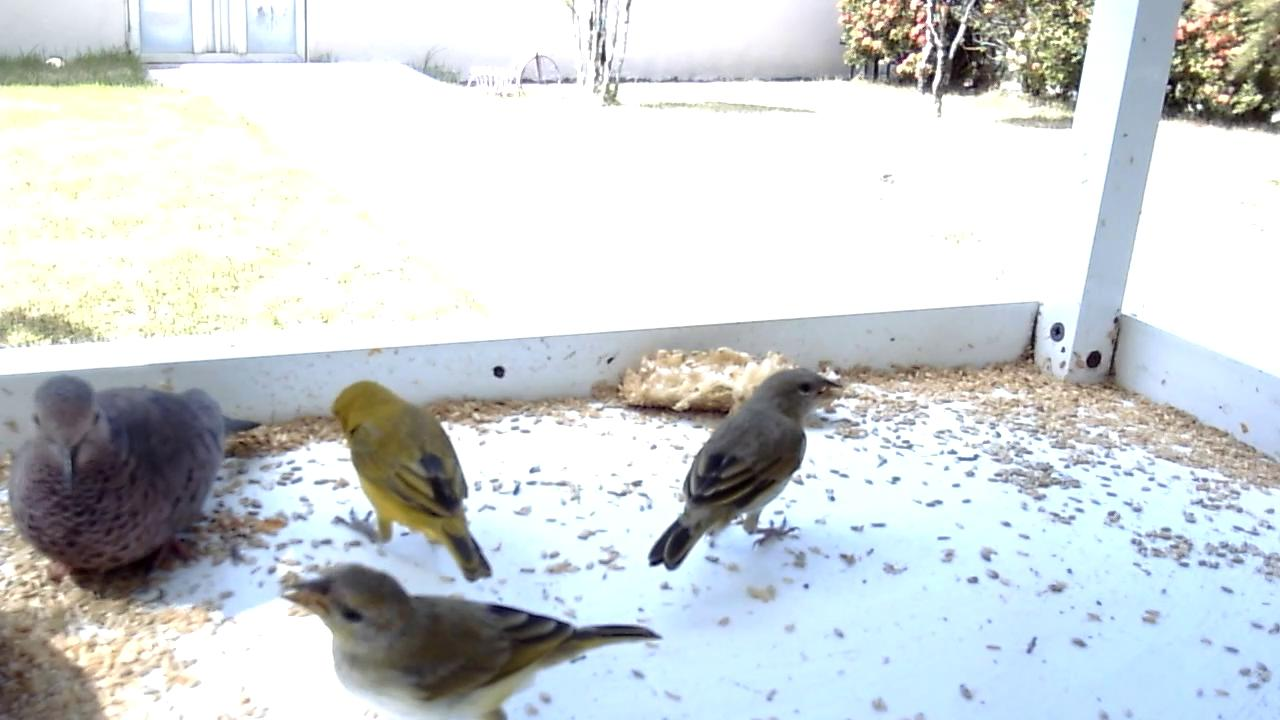canario_do_amazonas: (279, 561, 664, 720), (647, 366, 850, 573), (330, 376, 496, 586)
rolinha: (8, 373, 266, 588)
